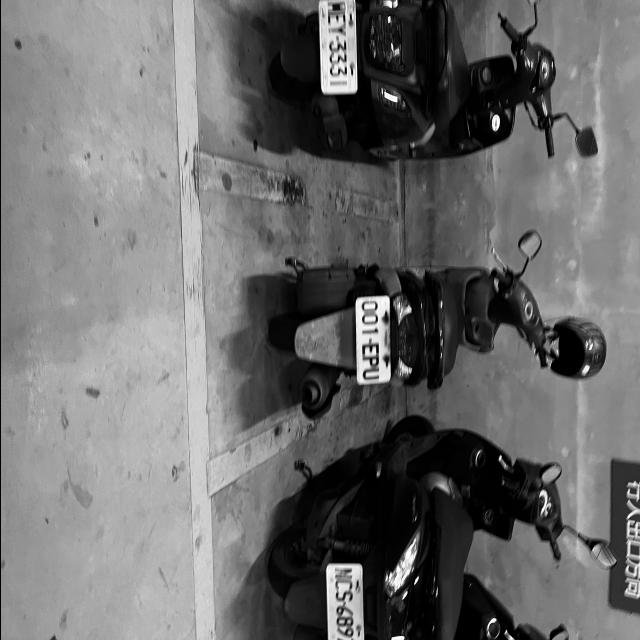-: (334, 36, 339, 42), (341, 602, 347, 606), (368, 338, 372, 342)
0: (360, 300, 378, 312), (361, 314, 377, 326)
1: (361, 326, 378, 335), (328, 80, 346, 87)
3: (328, 64, 346, 76), (328, 40, 346, 52), (328, 54, 346, 64)
6: (336, 606, 352, 616)
8: (335, 616, 353, 626)
9: (337, 627, 352, 637)
C: (334, 578, 352, 590)
E: (361, 343, 379, 355), (326, 12, 344, 24)
M: (334, 568, 352, 578)
P: (362, 356, 379, 366)
S: (334, 590, 352, 602)
U: (362, 368, 379, 380)
Y: (326, 24, 346, 36)
plate: (322, 1, 354, 92), (356, 296, 388, 384)
